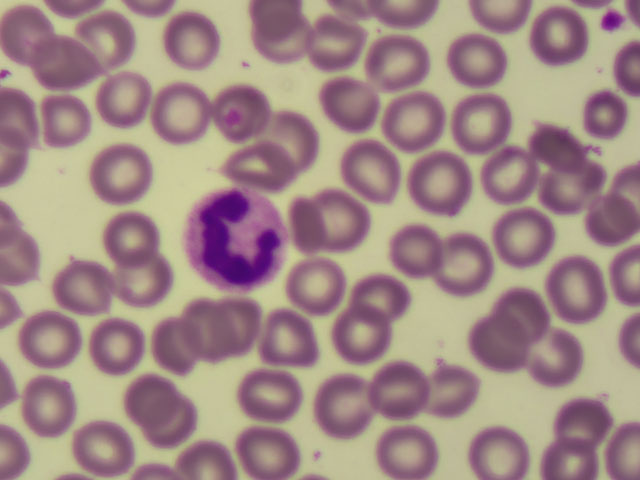Platelets: (599, 7, 627, 33)
RBC: (475, 426, 530, 480), (540, 426, 595, 480), (162, 426, 217, 480), (148, 402, 203, 456), (113, 367, 168, 421), (75, 426, 130, 480), (23, 371, 78, 425), (530, 7, 585, 61), (578, 85, 633, 139), (31, 35, 86, 88), (83, 10, 138, 63), (164, 10, 219, 63), (95, 66, 150, 119), (42, 94, 97, 147), (94, 146, 149, 199), (102, 207, 157, 260), (110, 247, 165, 300), (54, 260, 109, 313), (19, 311, 74, 364), (84, 318, 139, 371), (154, 320, 209, 373), (182, 305, 237, 358), (209, 298, 264, 351), (252, 308, 307, 361), (288, 261, 343, 314), (278, 195, 333, 248), (314, 190, 369, 243), (225, 139, 280, 192), (261, 109, 316, 162), (221, 85, 276, 138), (155, 85, 210, 138), (255, 8, 310, 61), (309, 20, 364, 73), (377, 36, 432, 89), (330, 74, 385, 127), (344, 142, 399, 195), (392, 89, 447, 142), (409, 157, 464, 210), (453, 93, 508, 146), (447, 34, 502, 87), (476, 146, 531, 199), (521, 118, 576, 171), (550, 162, 605, 215), (584, 195, 639, 248), (549, 261, 604, 314), (500, 283, 555, 336), (466, 314, 521, 367), (524, 328, 579, 381), (499, 206, 554, 259), (442, 233, 497, 286), (394, 218, 449, 271), (351, 262, 406, 315), (337, 313, 392, 366), (318, 377, 373, 430), (369, 367, 424, 420), (426, 365, 481, 418), (383, 422, 438, 475), (562, 395, 617, 448), (247, 425, 302, 478), (243, 369, 298, 422), (1, 5, 55, 58)
WBC: (187, 190, 290, 290)
